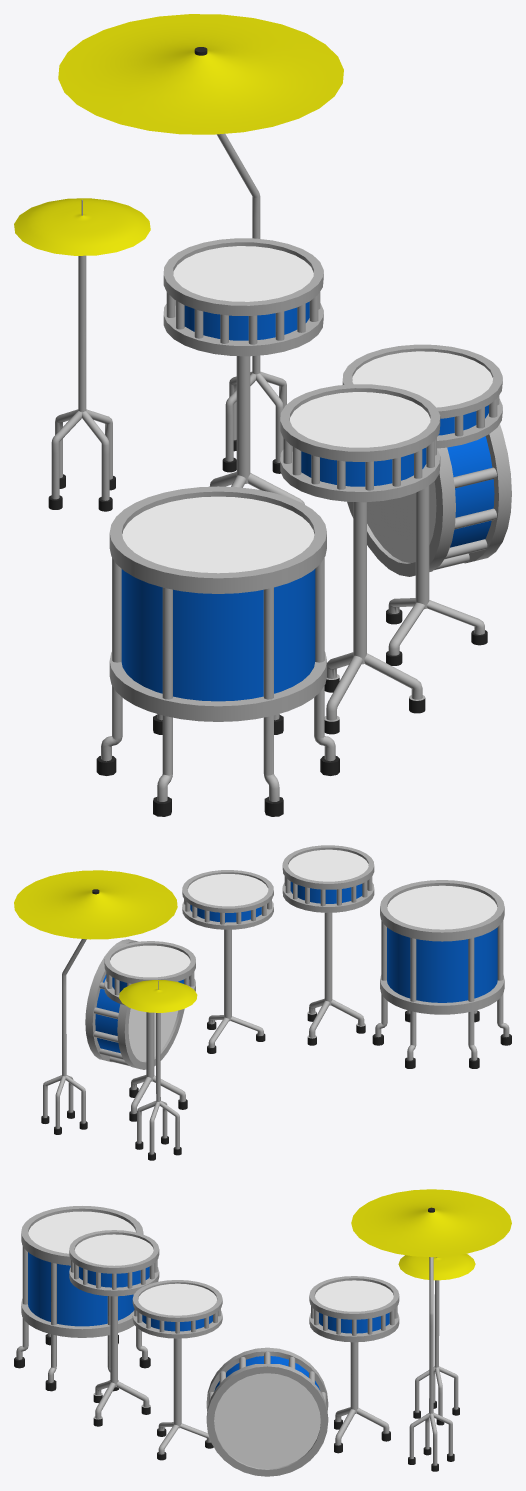
The model's file is Bateria(Completa).fbx.
3 views of the same model, one above another, from view 1: azimuth 30°, elevation 25°; view 2: azimuth 150°, elevation 25°; view 3: azimuth 270°, elevation 25° (orthographic). The views are drawn at different scales.
Parts seen in each view (by area): view 1: Floor_Tom, Crash, Tom2, Snare, Tom1, Kick, Hi-Hat; view 2: Floor_Tom, Crash, Tom2, Tom1, Snare, Kick, Hi-Hat; view 3: Kick, Floor_Tom, Crash, Tom2, Snare, Tom1, Hi-Hat.
Part boxes in pixels (x1,y1,x2,y2): Floor_Tom: [96, 486, 339, 816]; Crash: [58, 14, 343, 473]; Tom2: [280, 384, 440, 734]; Snare: [163, 238, 323, 504]; Tom1: [342, 344, 502, 665]; Kick: [347, 424, 511, 576]; Hi-Hat: [14, 198, 150, 511]; Floor_Tom: [372, 880, 511, 1068]; Crash: [14, 870, 177, 1134]; Tom2: [282, 845, 374, 1045]; Tom1: [182, 870, 273, 1053]; Snare: [104, 941, 195, 1121]; Kick: [85, 939, 184, 1069]; Hi-Hat: [119, 980, 197, 1160]; Kick: [206, 1347, 328, 1476]; Floor_Tom: [14, 1206, 150, 1391]; Crash: [351, 1189, 511, 1471]; Tom2: [69, 1230, 159, 1426]; Snare: [309, 1276, 399, 1453]; Tom1: [132, 1280, 222, 1460]; Hi-Hat: [398, 1254, 475, 1425].
Bounding box in the file's own units: 446 × 354 × 670.
